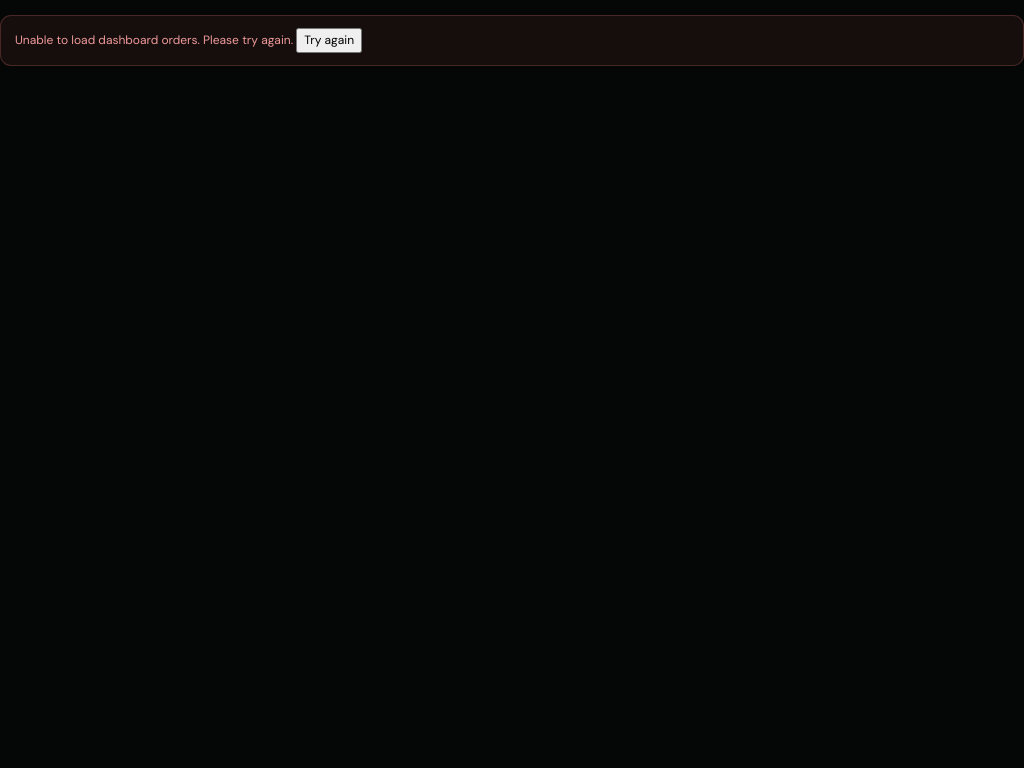
shows a failed load and recovers on retry
Expected: the message "Unable to load dashboard orders. Please try again. Try again" is shown, [0,15,1023,66]
Expected: the text "No payment receipts are waiting for review." is not shown
Click the button "Try again": (329, 41) [296,28,362,53]
(page scrolled)
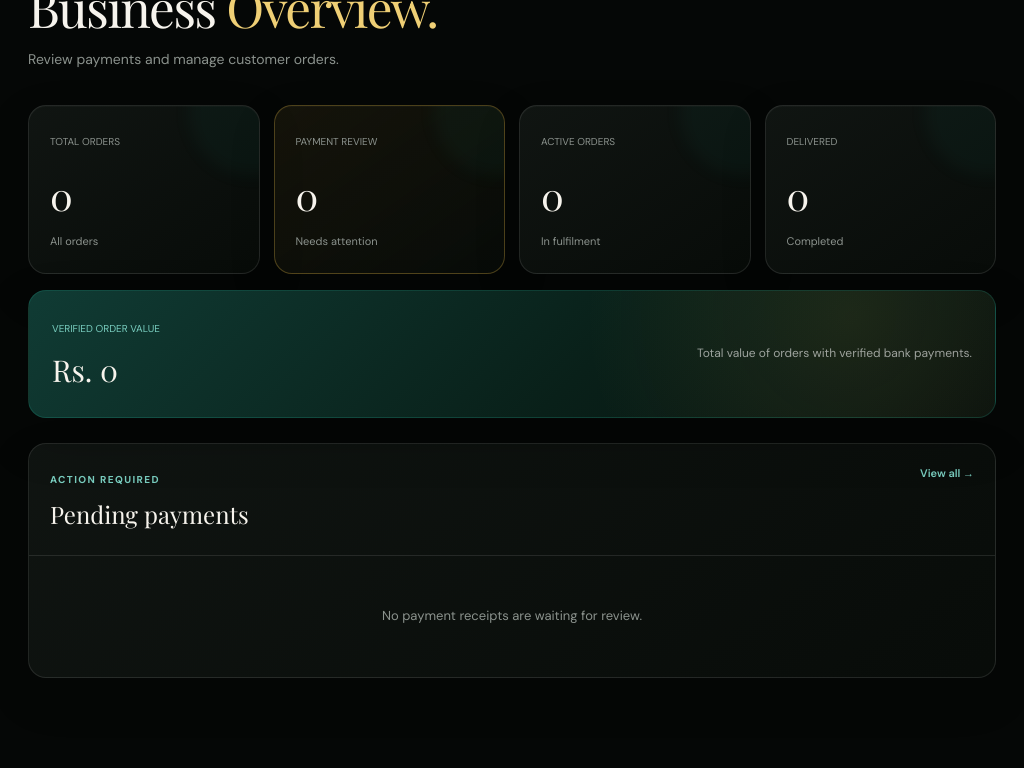
Now the text "No payment receipts are waiting for review." is shown, box [382,607,642,624]
